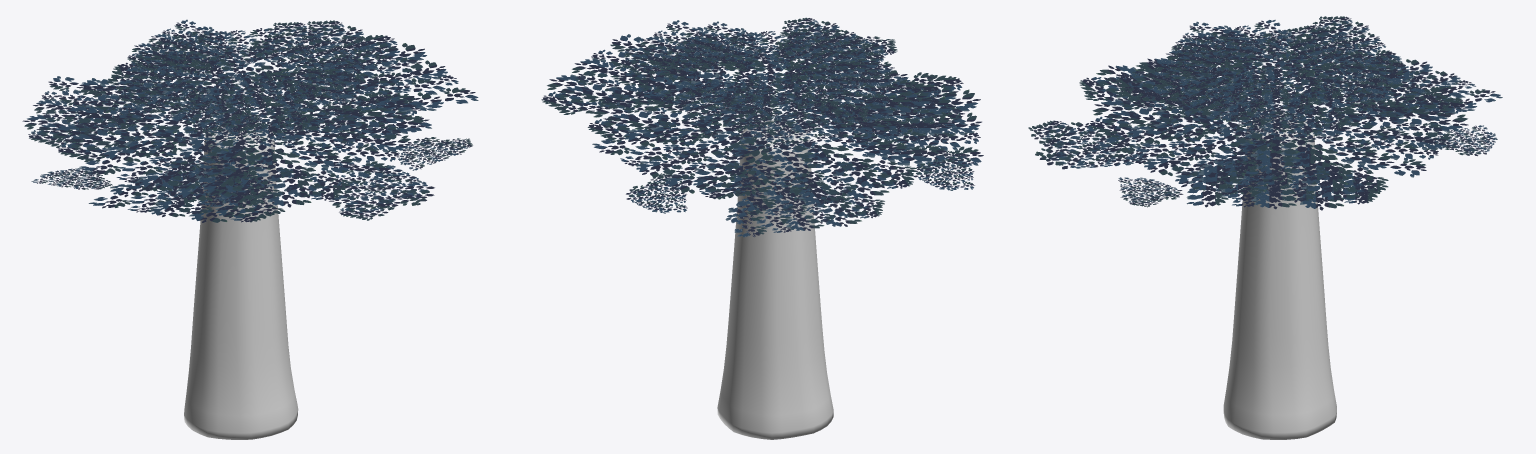
Rendered from dev_ağaç.fbx.
3 renders of one model, left to right at view 1: azimuth 30°, elevation 25°; view 2: azimuth 150°, elevation 25°; view 3: azimuth 270°, elevation 25°, orthographic.
Visible parts, largest first — view 1: Cylinder, branch_bigtrree.003, branch_bigtrree.005, branch_bigtrree.002, branch_bigtrree.006, branch_bigtrree.004, branch_bigtrree.007, branch_bigtrree.018, branch_bigtrree.019, branch_bigtrree.010, branch_bigtrree.001, branch_bigtrree.015 (+11 smaller); view 2: Cylinder, branch_bigtrree.001, branch_bigtrree.002, branch_bigtrree.003, branch_bigtrree.006, branch_bigtrree.018, branch_bigtrree.007, branch_bigtrree, branch_bigtrree.010, branch_bigtrree.008, branch_bigtrree.016, branch_bigtrree.014 (+11 smaller); view 3: Cylinder, branch_bigtrree.006, branch_bigtrree.001, branch_bigtrree.005, branch_bigtrree.004, branch_bigtrree.019, branch_bigtrree.003, branch_bigtrree.013, branch_bigtrree.002, branch_bigtrree.008, branch_bigtrree.015, branch_bigtrree (+11 smaller).
Part boxes in pixels (box(x1,y1,x2,y2)): Cylinder: box(184, 122, 298, 439); branch_bigtrree.003: box(79, 135, 272, 203); branch_bigtrree.005: box(270, 94, 425, 179); branch_bigtrree.002: box(51, 78, 201, 162); branch_bigtrree.006: box(306, 35, 478, 111); branch_bigtrree.004: box(156, 144, 352, 207); branch_bigtrree.007: box(88, 168, 285, 222); branch_bigtrree.018: box(22, 76, 151, 147); branch_bigtrree.019: box(329, 161, 434, 220); branch_bigtrree.010: box(133, 88, 261, 132); branch_bigtrree.001: box(106, 47, 301, 113); branch_bigtrree.015: box(204, 69, 321, 110); Cylinder: box(717, 120, 833, 439); branch_bigtrree.001: box(592, 126, 773, 199); branch_bigtrree.002: box(730, 141, 916, 211); branch_bigtrree.003: box(806, 78, 955, 162); branch_bigtrree.006: box(541, 34, 701, 114); branch_bigtrree.018: box(725, 178, 884, 237); branch_bigtrree.007: box(836, 72, 983, 167); branch_bigtrree: box(587, 64, 746, 142); branch_bigtrree.010: box(796, 49, 894, 105); branch_bigtrree.008: box(654, 81, 773, 129); branch_bigtrree.016: box(663, 21, 760, 70); branch_bigtrree.014: box(713, 71, 834, 109); Cylinder: box(1223, 114, 1336, 439); branch_bigtrree.006: box(1186, 145, 1388, 210); branch_bigtrree.001: box(1310, 91, 1468, 177); branch_bigtrree.005: box(1096, 123, 1282, 194); branch_bigtrree.004: box(1089, 58, 1251, 139); branch_bigtrree.019: box(1028, 120, 1165, 169); branch_bigtrree.003: box(1116, 38, 1297, 112); branch_bigtrree.013: box(1218, 91, 1351, 134); branch_bigtrree.002: box(1280, 46, 1463, 117); branch_bigtrree.008: box(1301, 55, 1404, 112); branch_bigtrree.015: box(1166, 21, 1262, 74); branch_bigtrree: box(1186, 139, 1388, 203).
Bounding box in the file's own units: 10027 × 8153 × 10243.
